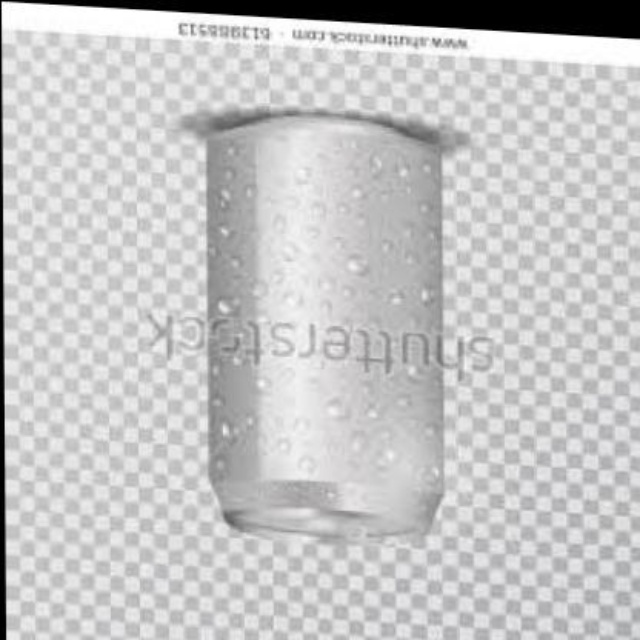trash: (208, 115, 442, 535)
